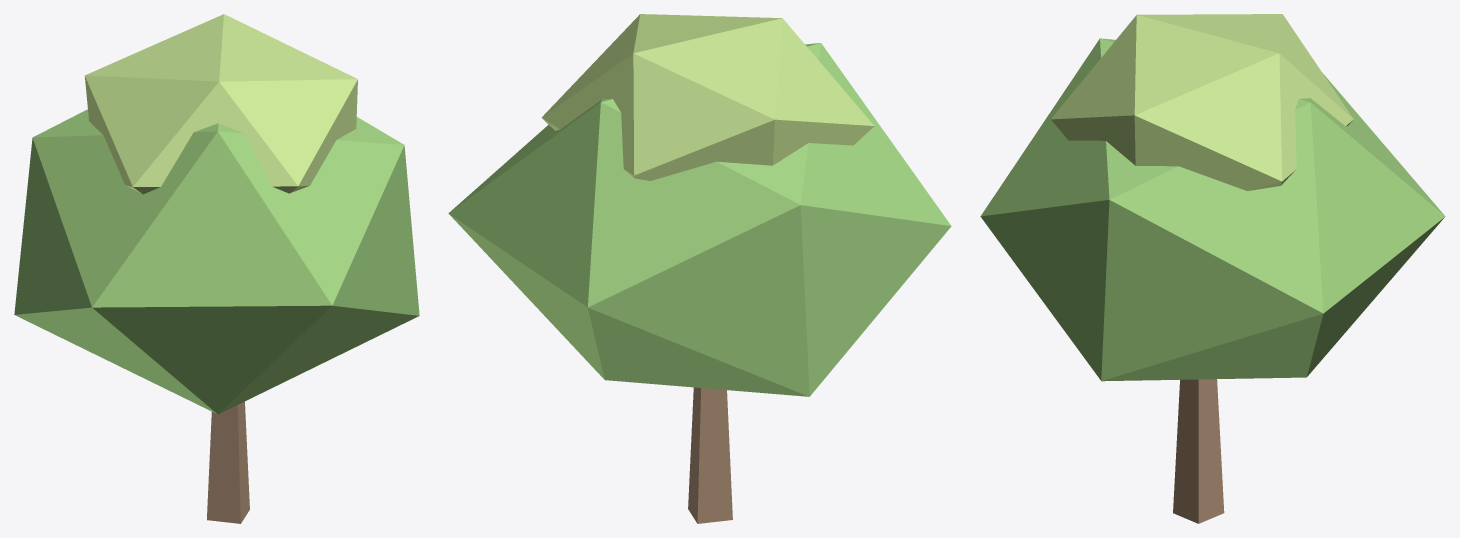
Rendered from pereira_2_lod.fbx.
The picture shows the model from 3 angles, left to right: view 1: azimuth 30°, elevation 25°; view 2: azimuth 150°, elevation 25°; view 3: azimuth 270°, elevation 25°; orthographic projection. The views are drawn at different scales.
Visible parts, largest first — view 1: pereira_2_lod~Copa@leaf, pereira_2_lod~Copa 0@leaflight, pereira_2_lod~Tronco@bark; view 2: pereira_2_lod~Copa@leaf, pereira_2_lod~Copa 0@leaflight, pereira_2_lod~Tronco@bark; view 3: pereira_2_lod~Copa@leaf, pereira_2_lod~Copa 0@leaflight, pereira_2_lod~Tronco@bark.
Boxes of the visible parts, bbox=[...] form: pereira_2_lod~Copa@leaf: bbox=[14, 109, 419, 414]; pereira_2_lod~Copa 0@leaflight: bbox=[84, 14, 357, 194]; pereira_2_lod~Tronco@bark: bbox=[207, 401, 249, 523]; pereira_2_lod~Copa@leaf: bbox=[448, 43, 951, 396]; pereira_2_lod~Copa 0@leaflight: bbox=[541, 14, 874, 180]; pereira_2_lod~Tronco@bark: bbox=[688, 387, 732, 523]; pereira_2_lod~Copa@leaf: bbox=[980, 38, 1445, 381]; pereira_2_lod~Copa 0@leaflight: bbox=[1051, 14, 1353, 190]; pereira_2_lod~Tronco@bark: bbox=[1173, 379, 1224, 523].
Bounding box in the file's own units: 4 × 4.73 × 4.17.
